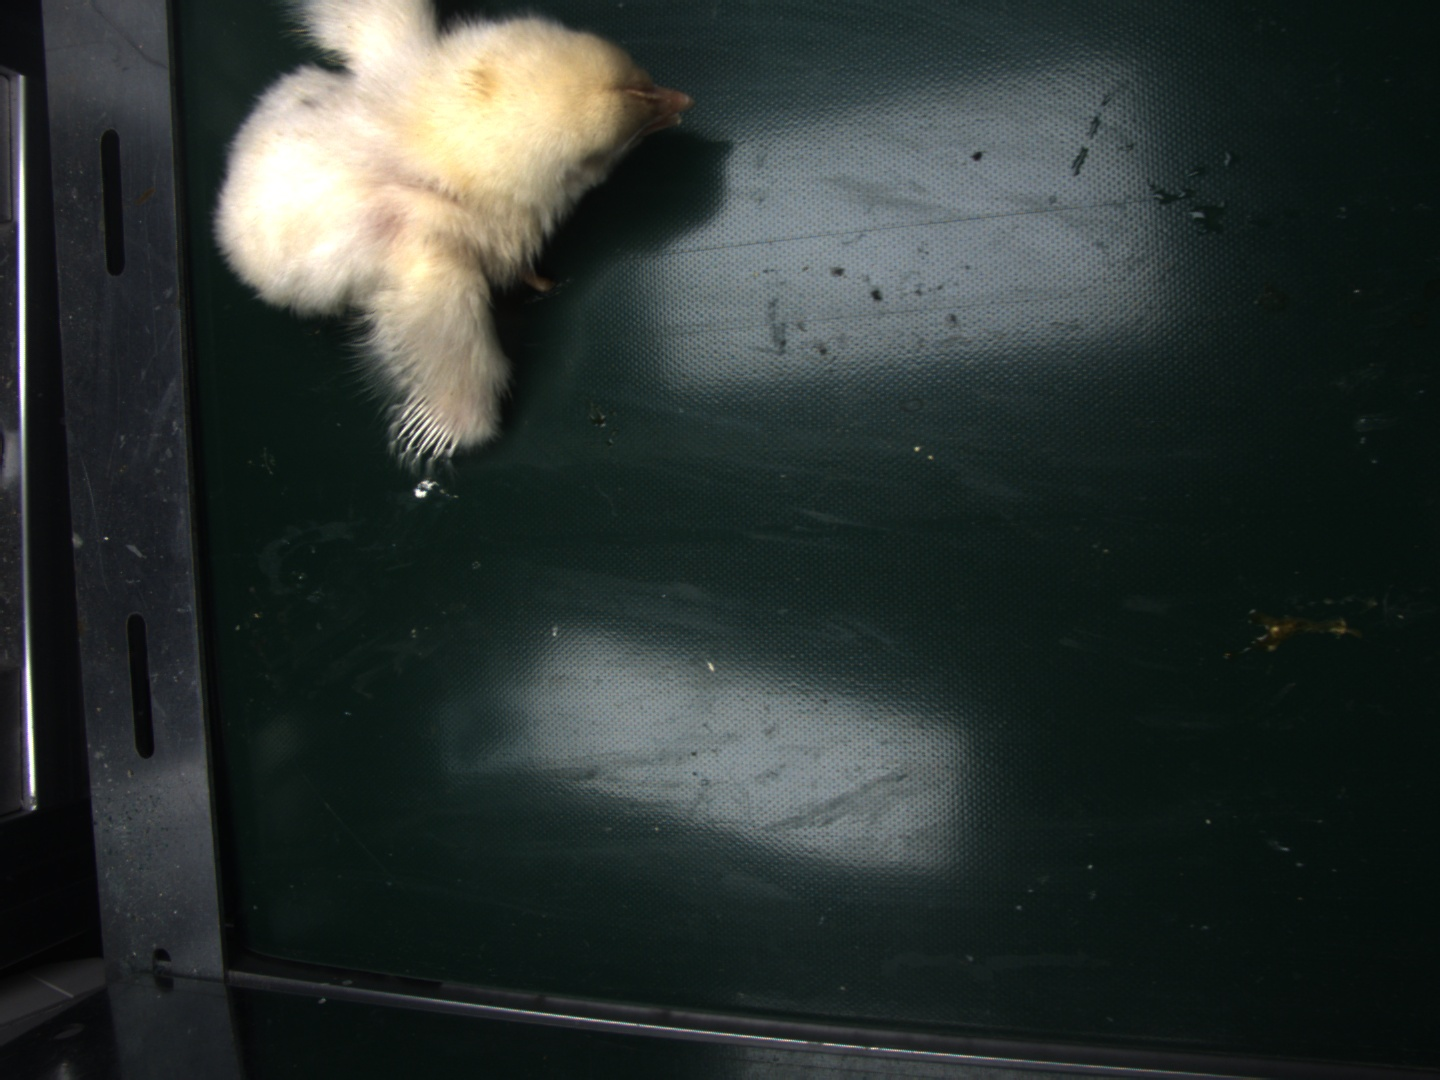male: (399, 393, 464, 459)
